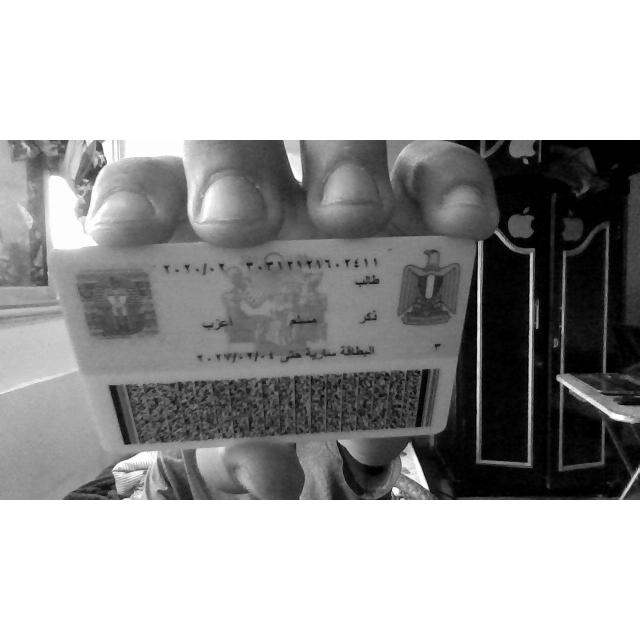back: (50, 236, 476, 450)
